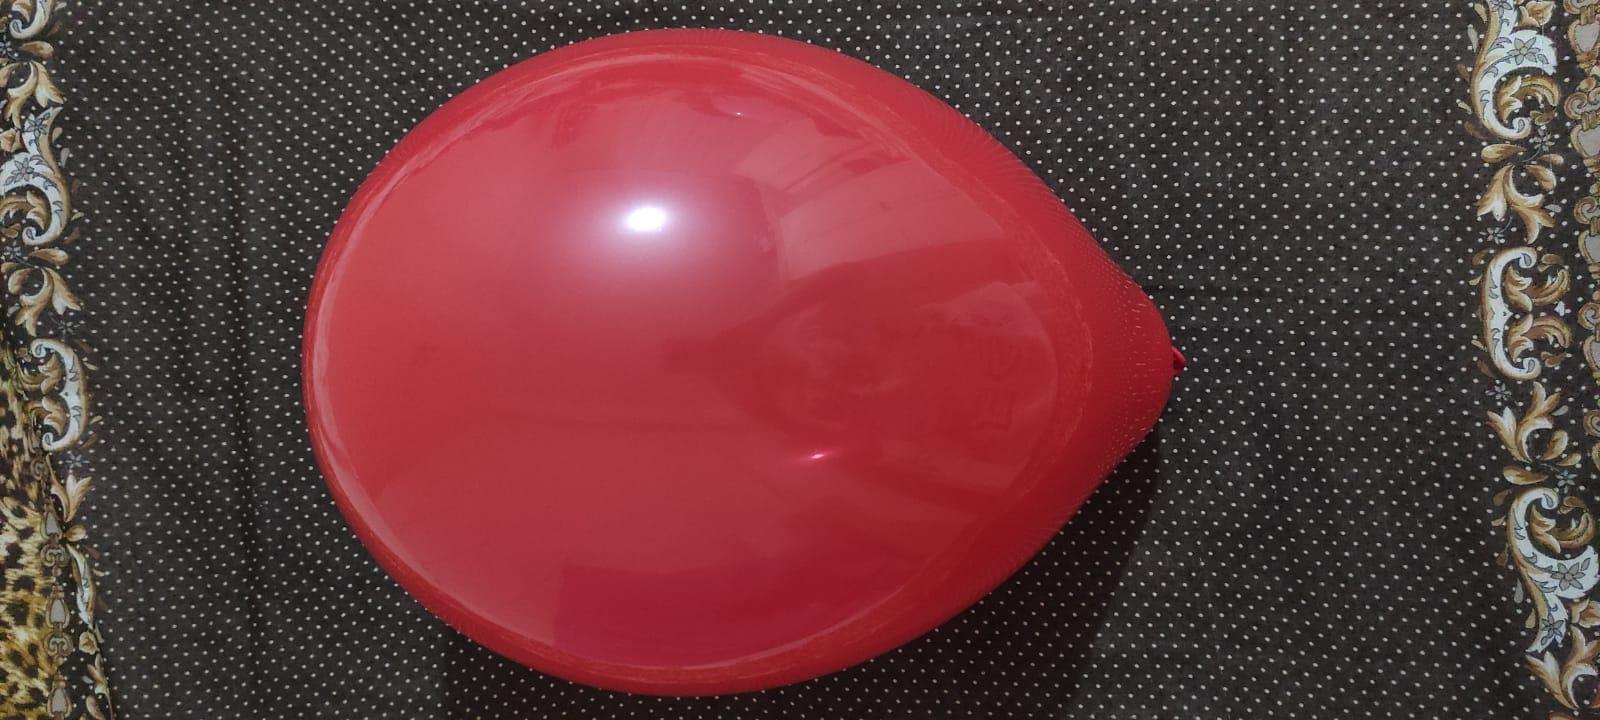red: (292, 20, 1182, 702)
